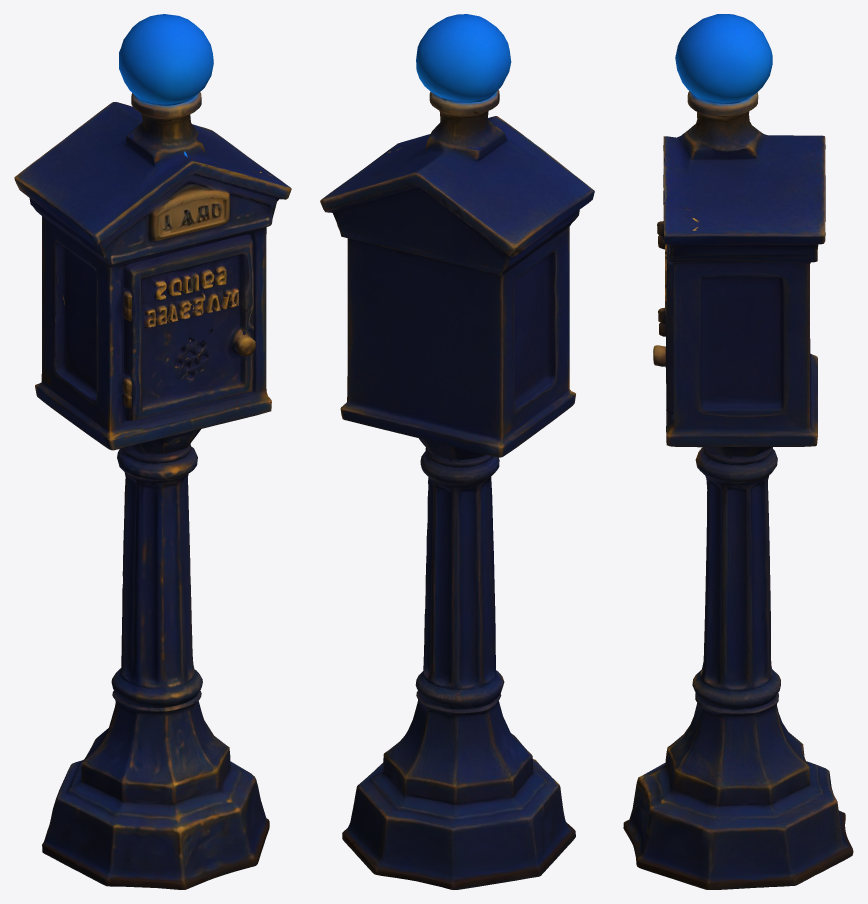
File: police-call-box-alt.glb
The picture shows the model from 3 angles, left to right: view 1: azimuth 30°, elevation 25°; view 2: azimuth 150°, elevation 25°; view 3: azimuth 270°, elevation 25°; orthographic projection.
Visible parts, largest first — view 1: SM_PoliceCallBoxAlt; view 2: SM_PoliceCallBoxAlt; view 3: SM_PoliceCallBoxAlt.
Part boxes in pixels (x1=…): SM_PoliceCallBoxAlt: x1=14, y1=14, x2=291, y2=889; SM_PoliceCallBoxAlt: x1=320, y1=14, x2=594, y2=889; SM_PoliceCallBoxAlt: x1=623, y1=14, x2=853, y2=889.
Size of the model in its own units: 0.4771 by 1.9 by 0.4786.
Materials: 1 (1 with a texture image).
